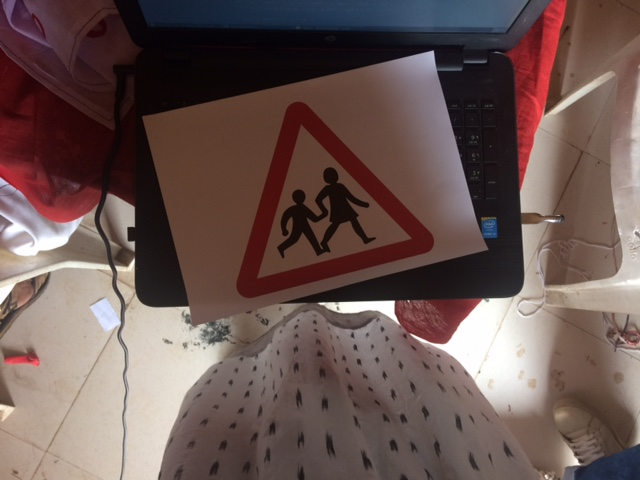sign: (234, 100, 436, 299)
